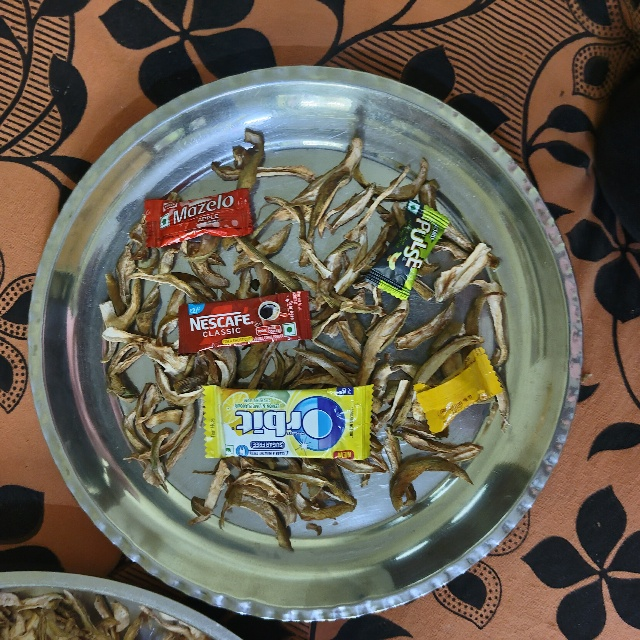Alpenlibe Creamfills: (402, 390, 497, 443)
Mazelo: (140, 193, 259, 244)
Nescafe Coffee: (175, 310, 308, 360)
Orbit: (194, 384, 378, 459)
Pulse: (406, 196, 459, 294)
